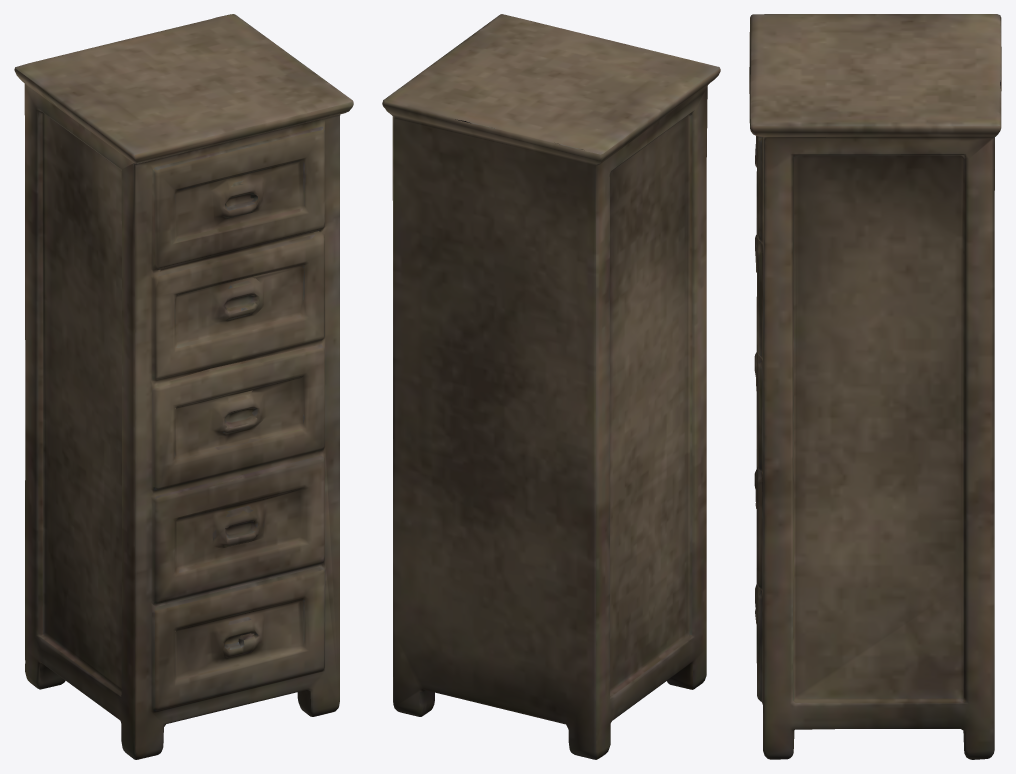
Rendered from ancient-wood-filing-cabinet-v001.glb.
The picture shows the model from 3 angles, left to right: view 1: azimuth 30°, elevation 25°; view 2: azimuth 150°, elevation 25°; view 3: azimuth 270°, elevation 25°; orthographic projection. The views are drawn at different scales.
Visible parts, largest first — view 1: ancient-wood-filing-cabinet; view 2: ancient-wood-filing-cabinet; view 3: ancient-wood-filing-cabinet.
Part boxes in pixels (bbox=[...]): ancient-wood-filing-cabinet: bbox=[14, 14, 353, 759]; ancient-wood-filing-cabinet: bbox=[382, 14, 720, 759]; ancient-wood-filing-cabinet: bbox=[749, 14, 1001, 759].
Bounding box in the file's own units: 0.4998 × 1.33 × 0.473.
Materials: 1 (1 with a texture image).
